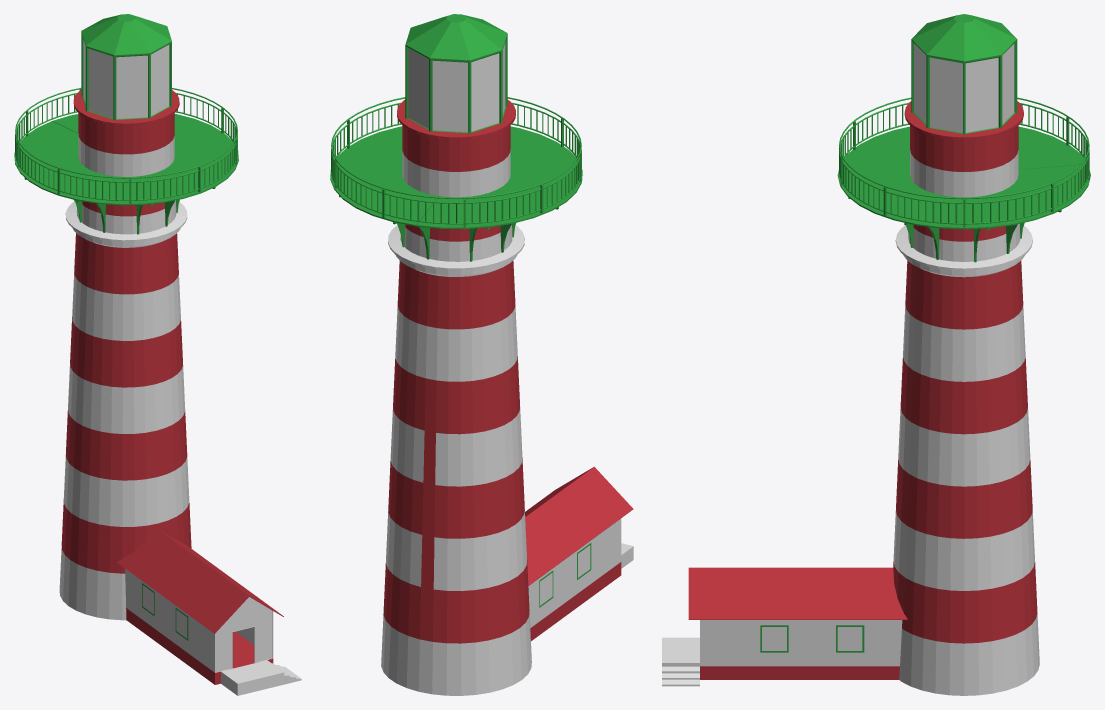
Rendered from lighthouse.dae.
3 renders of one model, left to right at view 1: azimuth 30°, elevation 25°; view 2: azimuth 150°, elevation 25°; view 3: azimuth 270°, elevation 25°, orthographic. The views are drawn at different scales.
Parts seen in each view (by area): view 1: Bas, Sol, Verrière, Haut, Walls.004, Walls.005, Walls.002, Barreau fin, Rebord Bas, Foundation, Cube.002, Rembarde 1 (+5 smaller); view 2: Bas, Sol, Verrière, Haut, Walls.004, Walls.005, Barreau fin, Rebord Bas, Foundation, Rembarde 1, Rembarde 2, Rembarde 3 (+2 smaller); view 3: Bas, Sol, Verrière, Walls.003, Haut, Walls.001, Foundation, Barreau fin, Rebord Bas, Cube.002, Rembarde 1, Rembarde 2 (+4 smaller).
Boxes of the visible parts, <box> form: Bas: <box>59,233,191,620</box>; Sol: <box>14,114,238,205</box>; Verrière: <box>81,14,171,120</box>; Haut: <box>73,90,179,234</box>; Walls.004: <box>117,529,249,633</box>; Walls.005: <box>125,568,215,672</box>; Walls.002: <box>214,597,272,672</box>; Barreau fin: <box>15,94,237,200</box>; Rebord Bas: <box>65,201,187,247</box>; Foundation: <box>126,608,273,684</box>; Cube.002: <box>221,660,301,695</box>; Rembarde 1: <box>15,88,237,178</box>; Bas: <box>381,260,531,695</box>; Sol: <box>330,126,582,229</box>; Verrière: <box>405,14,507,133</box>; Haut: <box>397,99,515,261</box>; Walls.004: <box>525,466,633,585</box>; Walls.005: <box>528,519,621,627</box>; Barreau fin: <box>331,104,581,223</box>; Rebord Bas: <box>388,225,524,276</box>; Foundation: <box>530,562,621,640</box>; Rembarde 1: <box>331,97,581,198</box>; Rembarde 2: <box>331,102,581,203</box>; Rembarde 3: <box>331,123,580,224</box>; Bas: <box>893,260,1039,695</box>; Sol: <box>837,126,1090,229</box>; Verrière: <box>911,14,1017,134</box>; Walls.003: <box>688,567,907,619</box>; Haut: <box>904,101,1023,261</box>; Walls.001: <box>700,620,902,666</box>; Foundation: <box>700,666,899,679</box>; Barreau fin: <box>839,104,1087,223</box>; Rebord Bas: <box>895,225,1032,277</box>; Cube.002: <box>662,637,699,686</box>; Rembarde 1: <box>839,97,1089,199</box>; Rembarde 2: <box>839,103,1089,203</box>.
Size of the model in its own units: 33.5 by 56.75 by 94.3.
